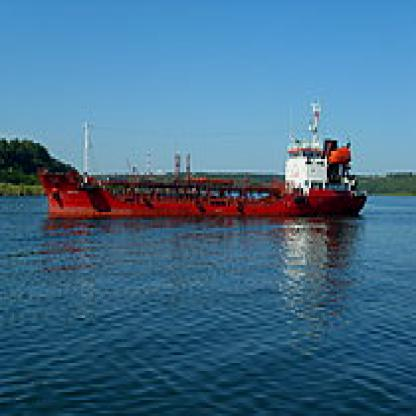Tanker: (47, 122, 360, 217)
